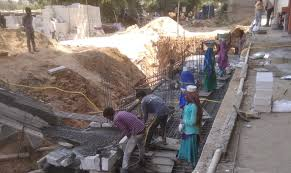human: (172, 84, 202, 167)
leg: (171, 131, 187, 167)
nohelmet: (101, 104, 116, 118), (166, 57, 176, 66), (24, 4, 32, 14), (134, 90, 144, 98)
novest: (116, 109, 144, 133), (179, 102, 198, 132), (181, 105, 199, 134), (144, 94, 168, 115), (204, 53, 217, 71), (21, 15, 35, 29), (218, 47, 228, 63), (167, 68, 177, 77)
